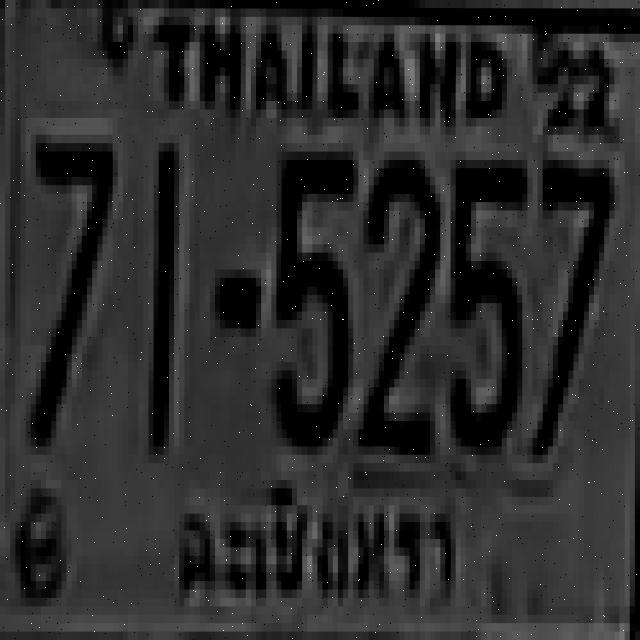1: (146, 143, 176, 446)
2: (358, 152, 436, 446)
5: (269, 148, 351, 442), (446, 152, 522, 446)
7: (26, 135, 112, 438), (532, 152, 610, 454), (538, 156, 610, 442)
Chachoengsao: (165, 480, 476, 630)
